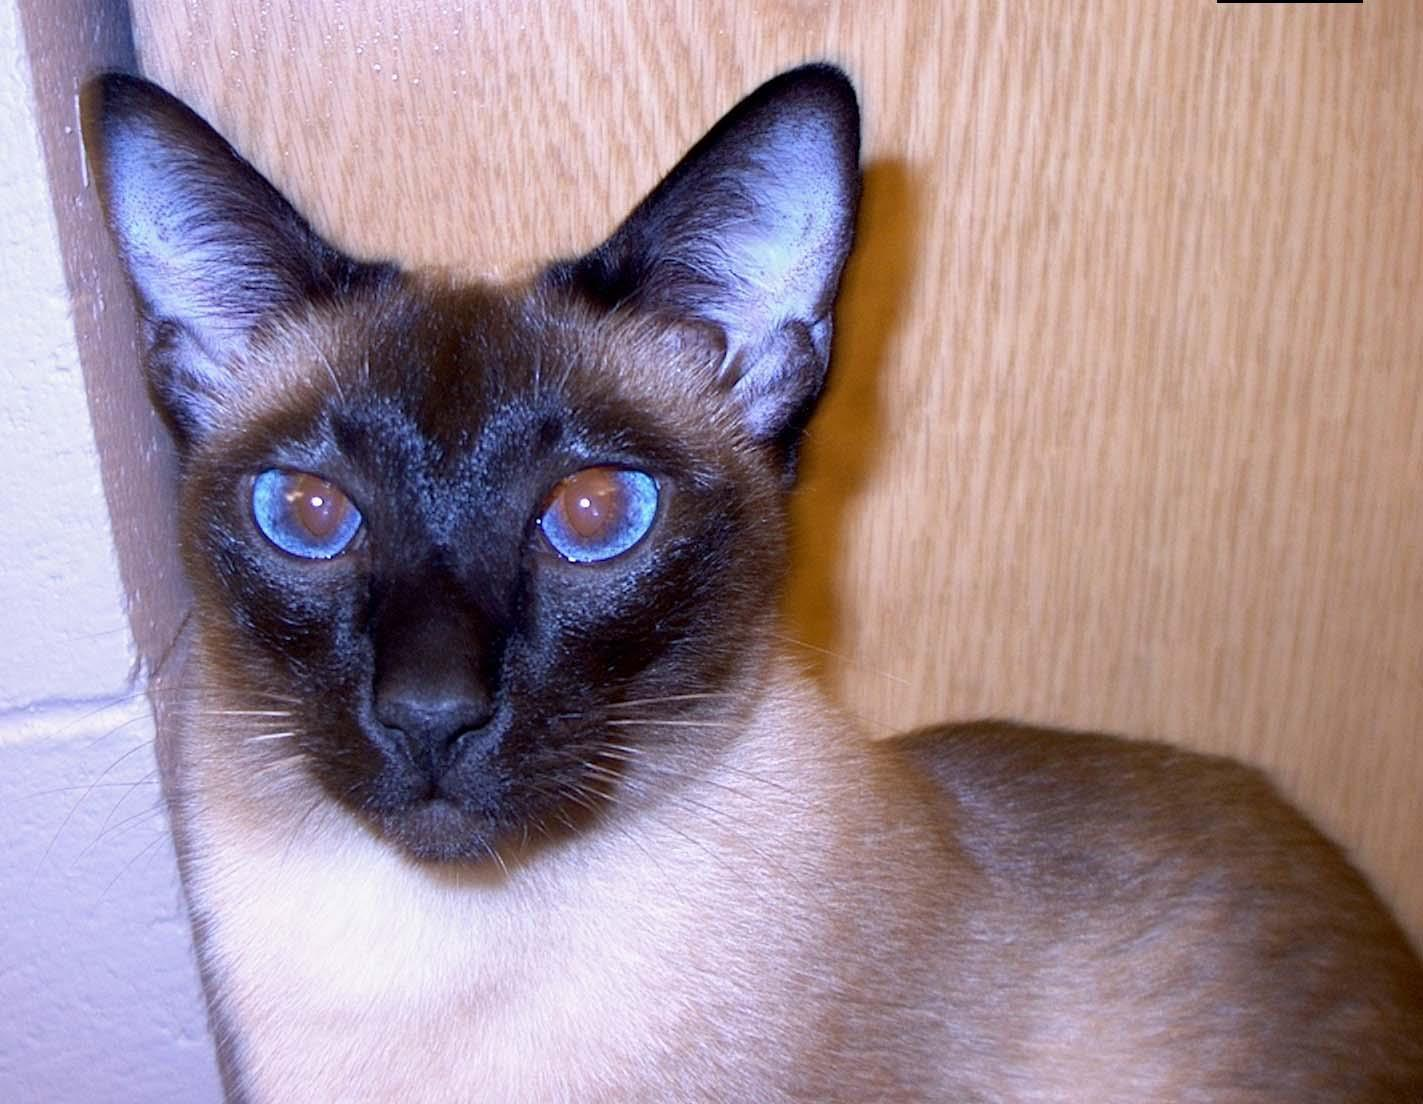siamese: (76, 33, 904, 923)
